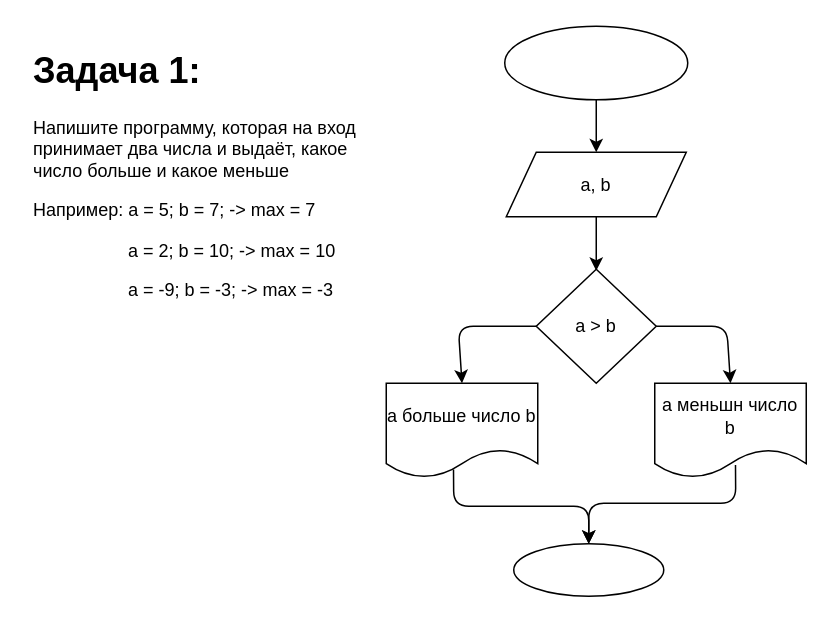
Image size: 833x623. Some labels were removed from this diagram. Each missing label, with the box of its shape:
Finish: (512, 542, 664, 596)
Start: (503, 25, 688, 100)
